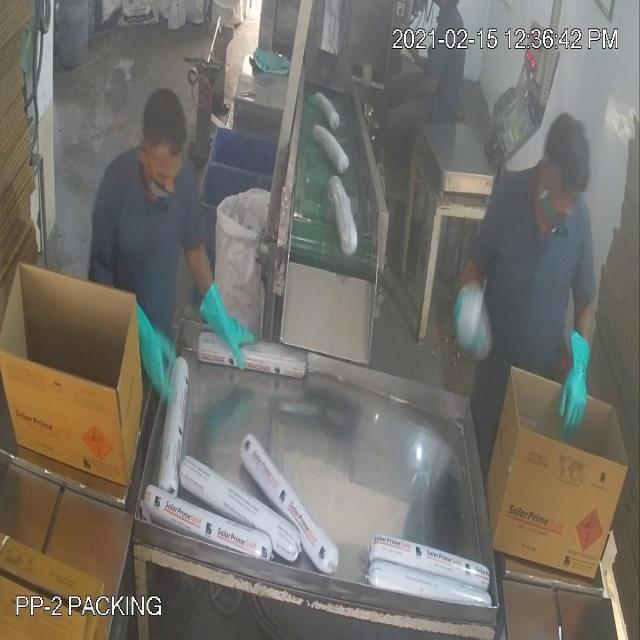Gloves: (49, 116, 576, 387)
